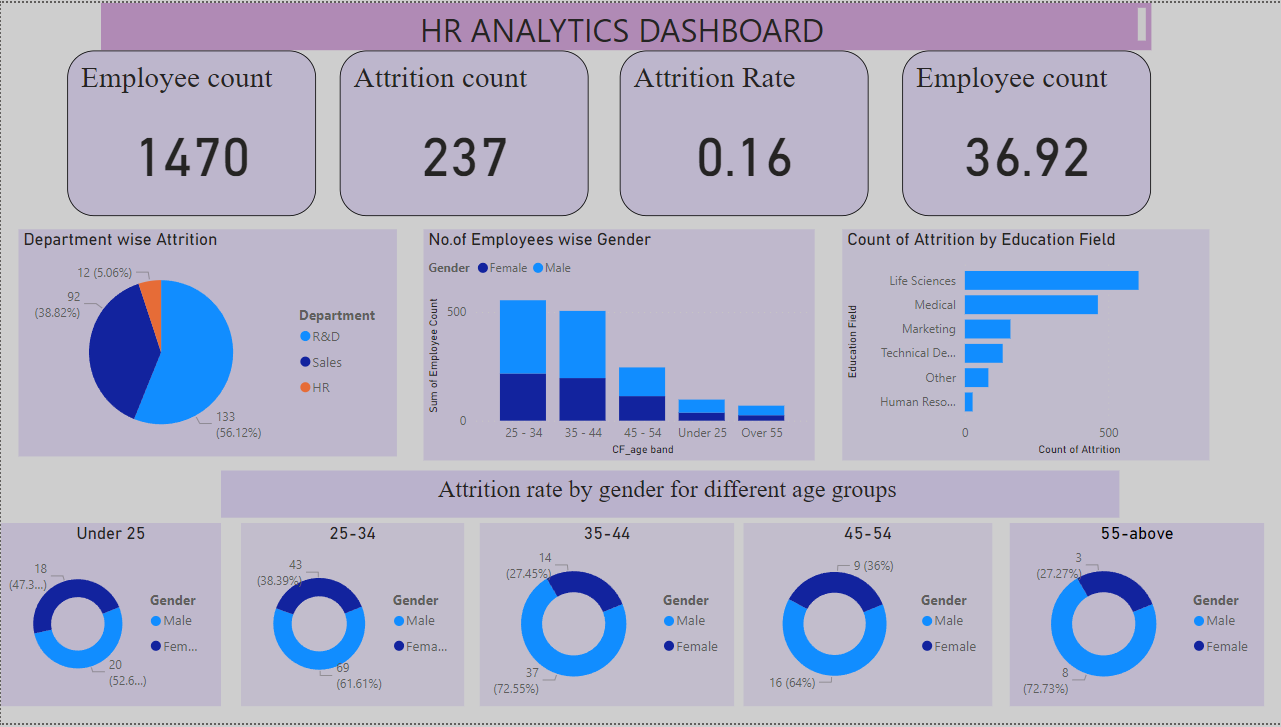

Layout of this report page (visuals, bound fields, positions):
{"tool":"powerbi","page":{"name":"Page 1","canvas":[1280,720],"ordinal":0},"visuals":[{"type":"card","title":"Employee count","fields":{"Values":["Sum(HR data.Employee Count)"]},"box":[65.7,47.1,248.6,165.7],"z":0},{"type":"card","title":"Attrition count","fields":{"Values":["Sum(HR data.Attrition count)"]},"box":[338.6,47.1,248.6,165.7],"z":1},{"type":"card","title":"Attrition Rate","fields":{"Values":["HR data.Attrition Rate"]},"box":[618.6,47.1,248.6,165.7],"z":2},{"type":"card","title":"Employee count","fields":{"Values":["Avg(HR data.Age)"]},"box":[901.4,47.1,248.6,165.7],"z":3},{"type":"pieChart","title":"Department wise Attrition","fields":{"Category":["HR data.Department"],"Y":["Sum(HR data.Attrition count)"]},"box":[17.1,225.7,378.6,227.1],"z":4},{"type":"columnChart","title":"No.of Employees wise Gender","fields":{"Category":["HR data.CF_age band"],"Y":["Sum(HR data.Employee Count)"],"Series":["HR data.Gender"]},"box":[422.9,225.7,391.4,231.4],"z":5},{"type":"clusteredBarChart","fields":{"Category":["HR data.Education Field"],"Y":["CountNonNull(HR data.Attrition)"]},"box":[841.4,225.7,367.1,231.4],"z":6},{"type":"donutChart","title":"Under 25","fields":{"Category":["HR data.Gender"],"Y":["Sum(HR data.Attrition count)"],"Series":["HR data.CF_age band"]},"box":[0,520,220,182.9],"z":7},{"type":"textbox","box":[220,467.1,898.6,47.1],"z":8},{"type":"donutChart","title":"25-34","fields":{"Category":["HR data.Gender"],"Y":["Sum(HR data.Attrition count)"],"Series":["HR data.CF_age band"]},"box":[240,520,222.9,182.9],"z":9},{"type":"donutChart","title":"35-44","fields":{"Category":["HR data.Gender"],"Y":["Sum(HR data.Attrition count)"],"Series":["HR data.CF_age band"]},"box":[478.6,520,254.3,182.9],"z":10},{"type":"donutChart","title":"45-54","fields":{"Category":["HR data.Gender"],"Y":["Sum(HR data.Attrition count)"],"Series":["HR data.CF_age band"]},"box":[742.9,520,248.6,182.9],"z":11},{"type":"donutChart","title":"55-above","fields":{"Category":["HR data.Gender"],"Y":["Sum(HR data.Attrition count)"],"Series":["HR data.CF_age band"]},"box":[1008.6,520,254.3,182.9],"z":12},{"type":"textbox","box":[100,0,1050,47.1],"z":13}]}

Visuals, with their boxes in screenshot pixels (x1, y1, x2, y2), scaled from the page's 1280x720 canvas onto the 1281x727 screenshot:
"Employee count" card: [left=66, top=48, right=315, bottom=215]
"Attrition count" card: [left=339, top=48, right=588, bottom=215]
"Attrition Rate" card: [left=619, top=48, right=868, bottom=215]
"Employee count" card: [left=902, top=48, right=1151, bottom=215]
"Department wise Attrition" pieChart: [left=17, top=228, right=396, bottom=457]
"No.of Employees wise Gender" columnChart: [left=423, top=228, right=815, bottom=462]
clusteredBarChart - HR data.Education Field x CountNonNull(HR data.Attrition): [left=842, top=228, right=1209, bottom=462]
"Under 25" donutChart: [left=0, top=525, right=220, bottom=710]
textbox: [left=220, top=472, right=1119, bottom=519]
"25-34" donutChart: [left=240, top=525, right=463, bottom=710]
"35-44" donutChart: [left=479, top=525, right=733, bottom=710]
"45-54" donutChart: [left=743, top=525, right=992, bottom=710]
"55-above" donutChart: [left=1009, top=525, right=1264, bottom=710]
textbox: [left=100, top=0, right=1151, bottom=48]
